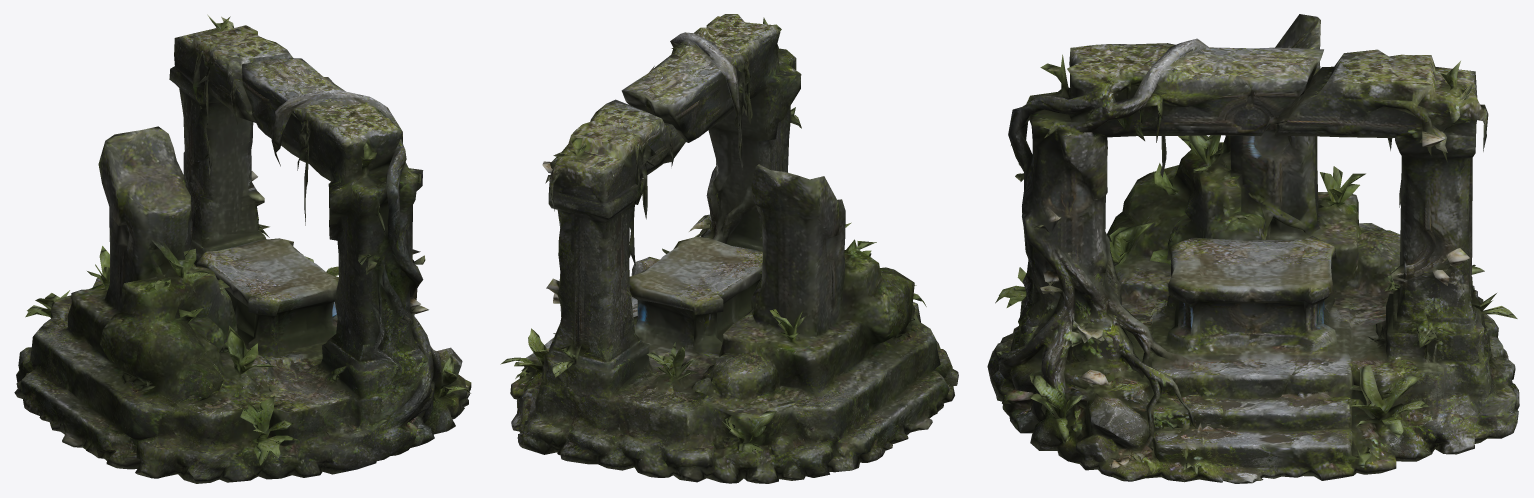
The model's file is env_bw_shrine.glb.
3 views of the same model, side by side, from view 1: azimuth 30°, elevation 25°; view 2: azimuth 150°, elevation 25°; view 3: azimuth 270°, elevation 25° (orthographic). The views are drawn at different scales.
Visible parts, largest first — view 1: tripo_node_762cd2af-6964-4a88-82d6-2a062f4887a4; view 2: tripo_node_762cd2af-6964-4a88-82d6-2a062f4887a4; view 3: tripo_node_762cd2af-6964-4a88-82d6-2a062f4887a4.
Part boxes in pixels (x1,y1,x2,y2): tripo_node_762cd2af-6964-4a88-82d6-2a062f4887a4: (14, 14, 471, 483); tripo_node_762cd2af-6964-4a88-82d6-2a062f4887a4: (500, 14, 958, 483); tripo_node_762cd2af-6964-4a88-82d6-2a062f4887a4: (987, 14, 1519, 483).
Size of the model in its own units: 0.9383 by 0.7603 by 1.
1 material, 1 textured.
